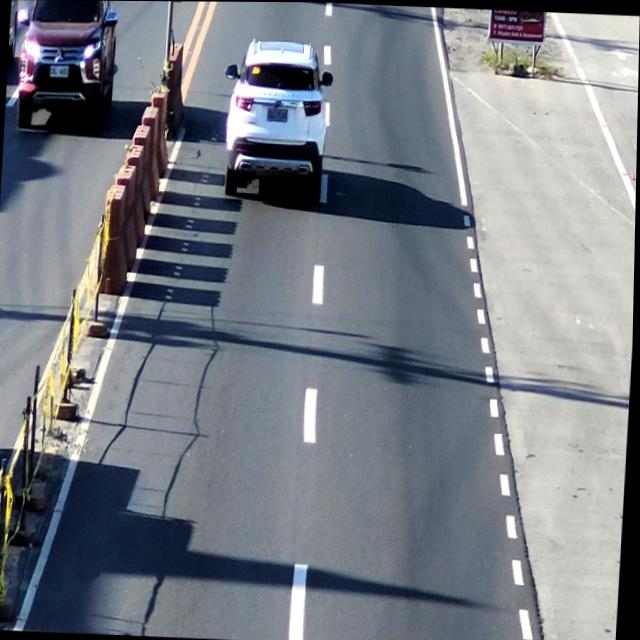Car: (225, 41, 336, 198)
License-Plate: (263, 103, 290, 125)
